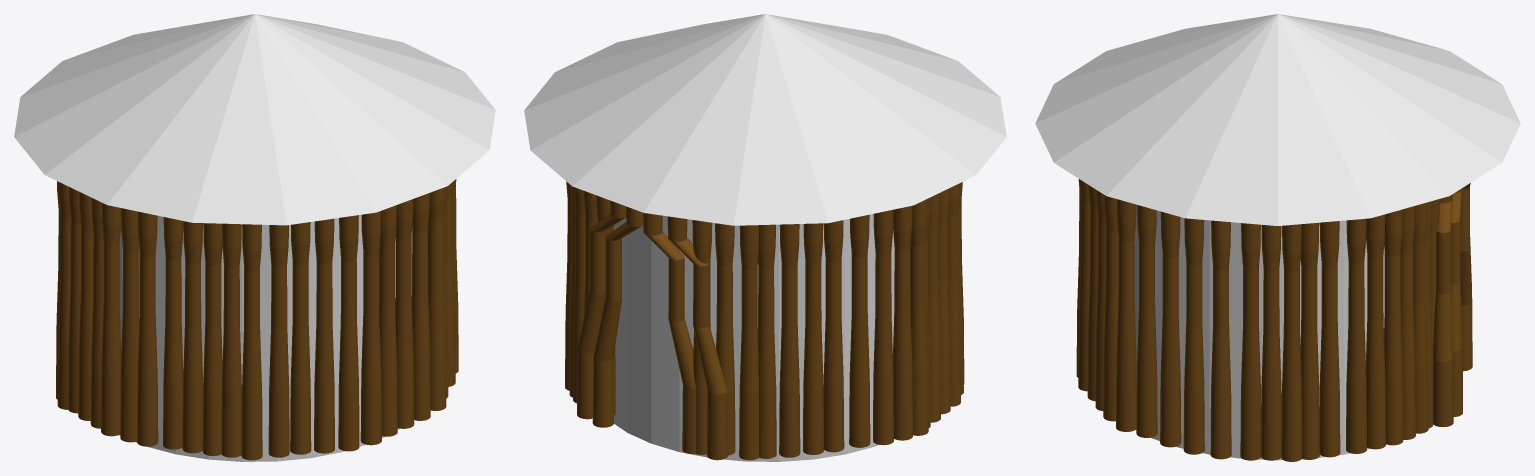
Rendered from river_tent.fbx.
3 views of the same model, side by side, from view 1: azimuth 30°, elevation 25°; view 2: azimuth 150°, elevation 25°; view 3: azimuth 270°, elevation 25° (orthographic).
Parts seen in each view (by area): view 1: Cylinder.025, Cone, Cylinder; view 2: Cone, Cylinder.025, Cylinder; view 3: Cylinder.025, Cone, Cylinder.
Part boxes in pixels (<box>): Cylinder.025: <box>56,179,458,460</box>; Cone: <box>14,14,495,225</box>; Cylinder: <box>119,214,412,461</box>; Cone: <box>524,14,1006,225</box>; Cylinder.025: <box>565,181,964,460</box>; Cylinder: <box>613,214,894,461</box>; Cylinder.025: <box>1076,179,1472,461</box>; Cone: <box>1035,14,1520,225</box>; Cylinder: <box>1134,204,1384,460</box>.
Size of the model in its own units: 1503 by 1274 by 1503.
